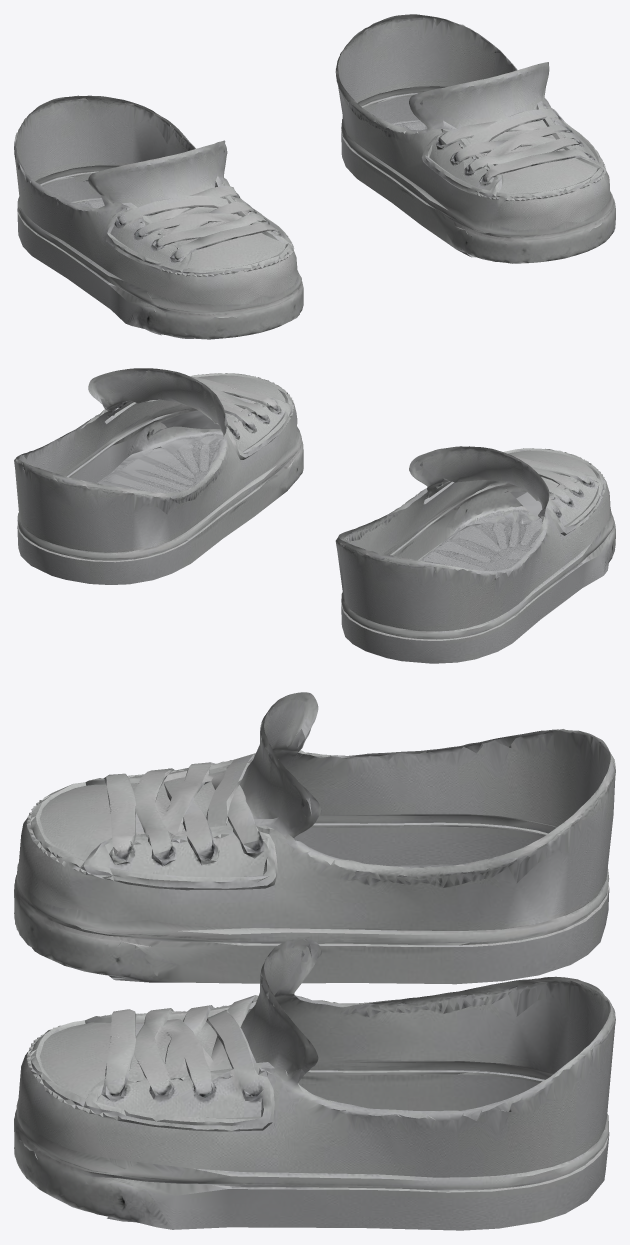
File: WhiteSneaker_smoothed.glb
The picture shows the model from 3 angles, top to bottom: view 1: azimuth 30°, elevation 25°; view 2: azimuth 150°, elevation 25°; view 3: azimuth 270°, elevation 25°; orthographic projection. The views are drawn at different scales.
Visible parts, largest first — view 1: WhiteSneakers; view 2: WhiteSneakers; view 3: WhiteSneakers.
Part boxes in pixels (left/top/right/bottom): WhiteSneakers: left=14, top=14, right=615, bottom=339; WhiteSneakers: left=14, top=368, right=615, bottom=663; WhiteSneakers: left=14, top=692, right=615, bottom=1230.
Bounding box in the file's own units: 0.5403 × 0.1374 × 0.3729.
Materials: 1 (1 with a texture image).
